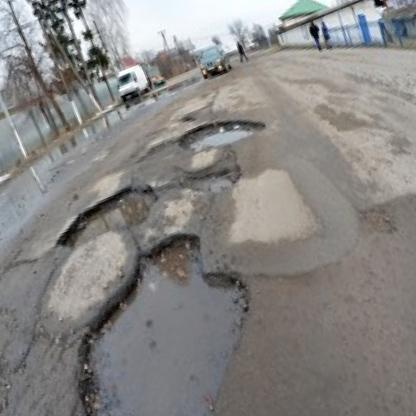pothole: (27, 215, 302, 416), (44, 175, 167, 260), (173, 100, 269, 166), (180, 157, 237, 205)
